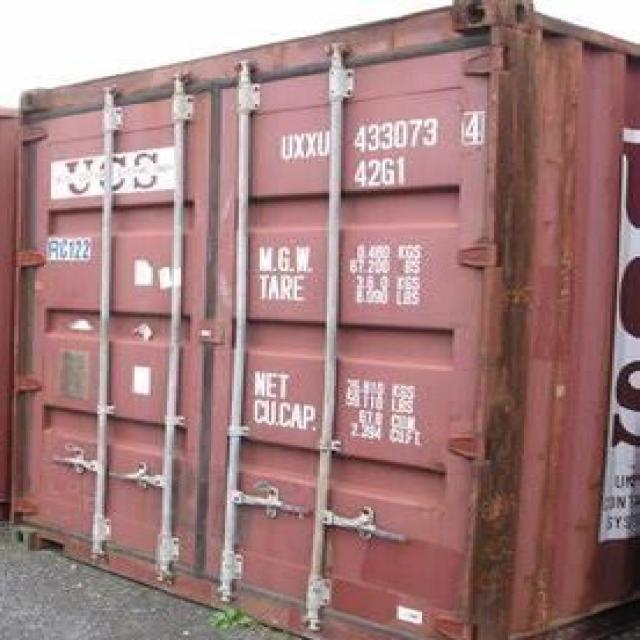ISO: (348, 160, 406, 188)
container_number: (283, 118, 473, 153)
